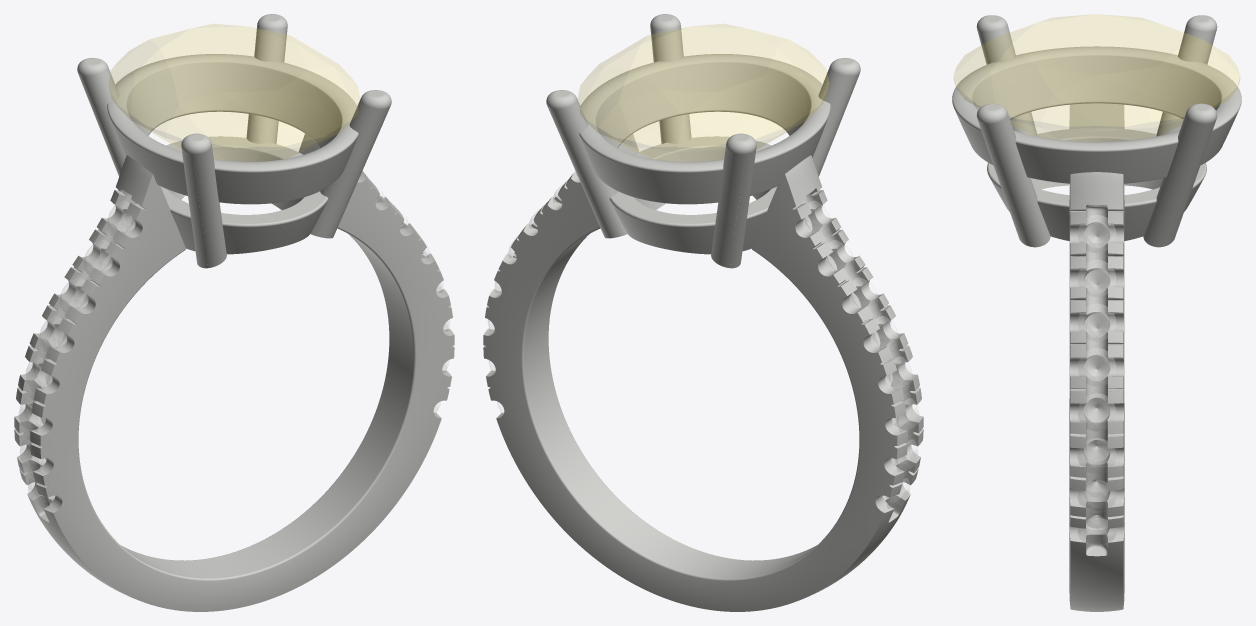
File: citrino.glb
3 renders of one model, left to right at view 1: azimuth 30°, elevation 25°; view 2: azimuth 150°, elevation 25°; view 3: azimuth 270°, elevation 25°, orthographic.
Parts seen in each view (by area): view 1: object 1, GG_Oval, RoundDiamondGG (×4); view 2: object 1, GG_Oval, RoundDiamondGG (×4); view 3: object 1, GG_Oval, RoundDiamondGG (×8).
Boxes of the visible parts, box(x1,y1,x2,y2) form: object 1: box(14, 14, 454, 611); GG_Oval: box(109, 24, 359, 161); RoundDiamondGG (×4): box(39, 201, 132, 352); object 1: box(483, 14, 923, 611); GG_Oval: box(578, 24, 828, 161); RoundDiamondGG (×4): box(805, 201, 898, 352); object 1: box(952, 15, 1241, 611); GG_Oval: box(954, 14, 1239, 141); RoundDiamondGG (×8): box(1078, 215, 1115, 546).
Bounding box in the file's own units: 0.0223 × 0.0272 × 0.0131.
